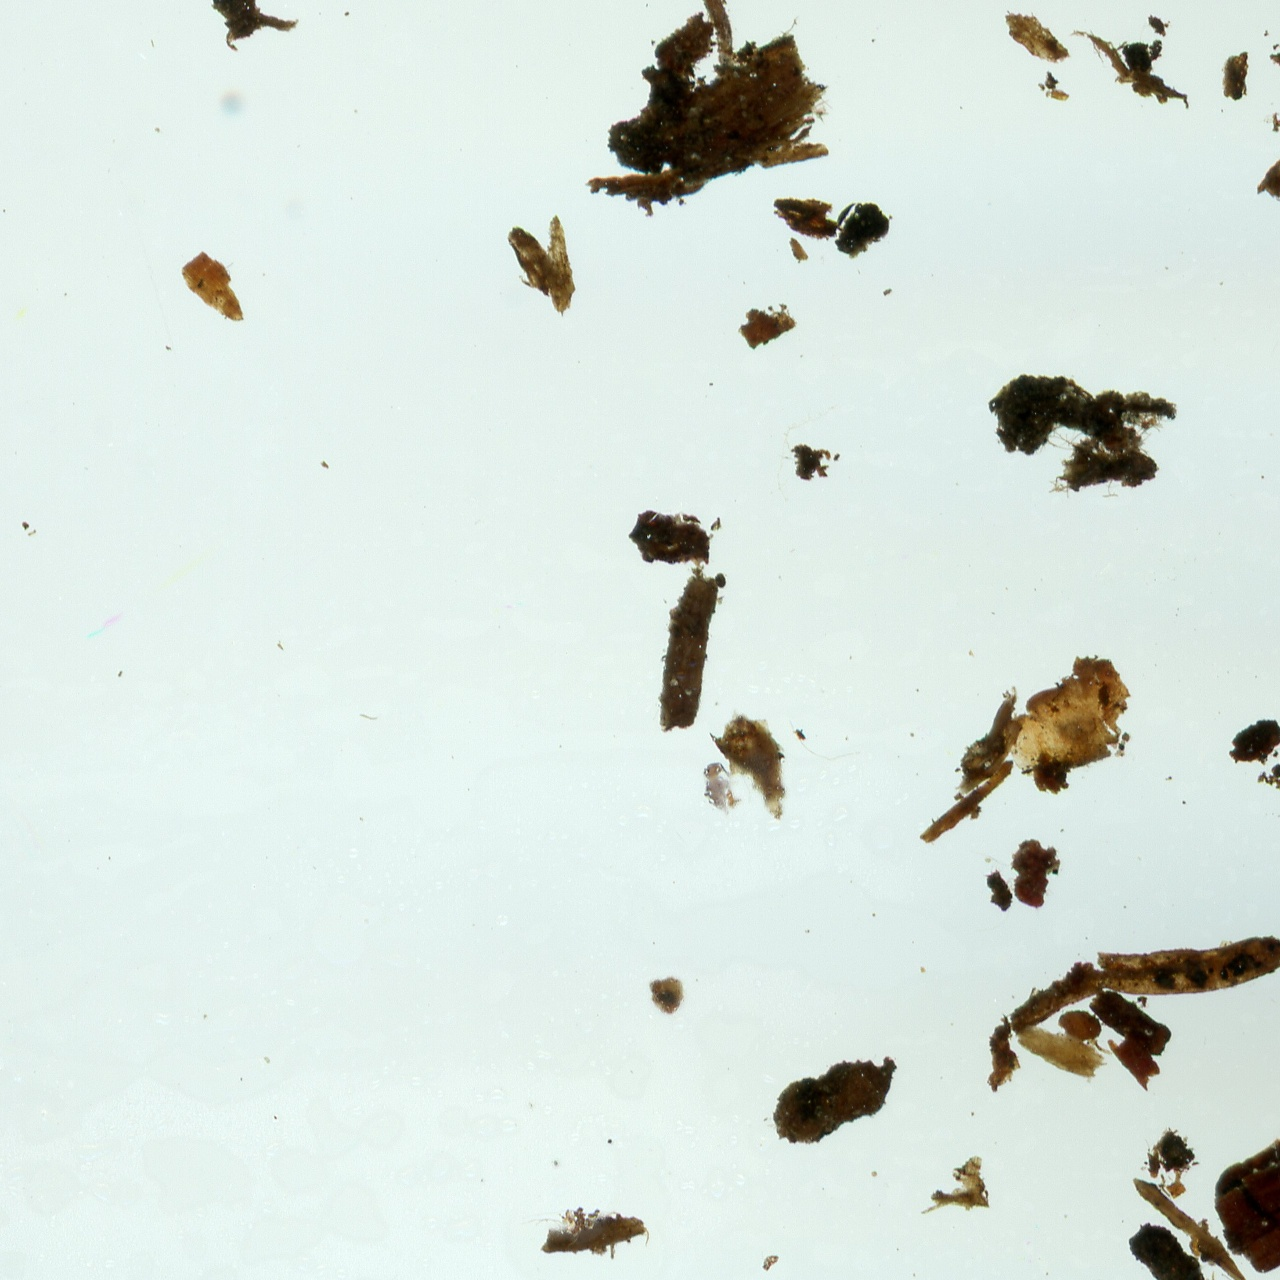arthropod: (692, 756, 748, 824)
